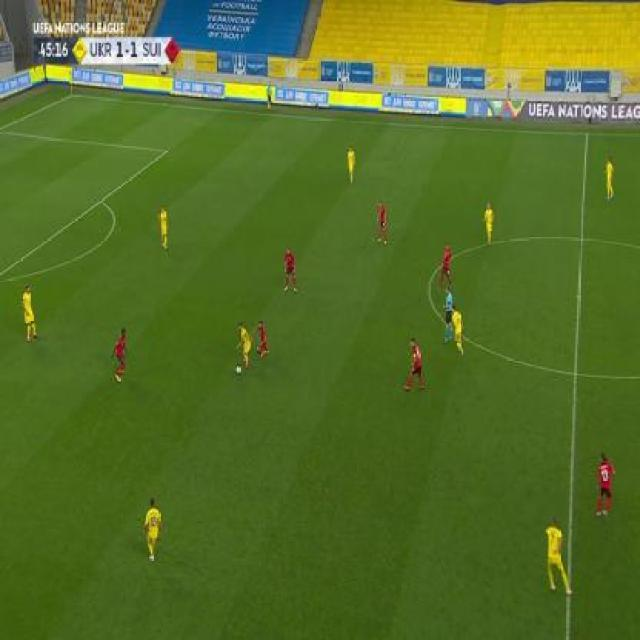ball: (236, 364, 242, 377)
player: (543, 516, 576, 599), (593, 451, 616, 519), (403, 338, 426, 394), (145, 498, 164, 563), (112, 327, 129, 386), (22, 284, 38, 343), (437, 242, 453, 293), (236, 321, 252, 369), (451, 305, 465, 356), (283, 247, 297, 295), (442, 286, 453, 345), (376, 199, 389, 247), (256, 318, 270, 360), (484, 203, 495, 249), (604, 156, 615, 201), (158, 205, 169, 250), (348, 145, 356, 185), (266, 80, 274, 114)
